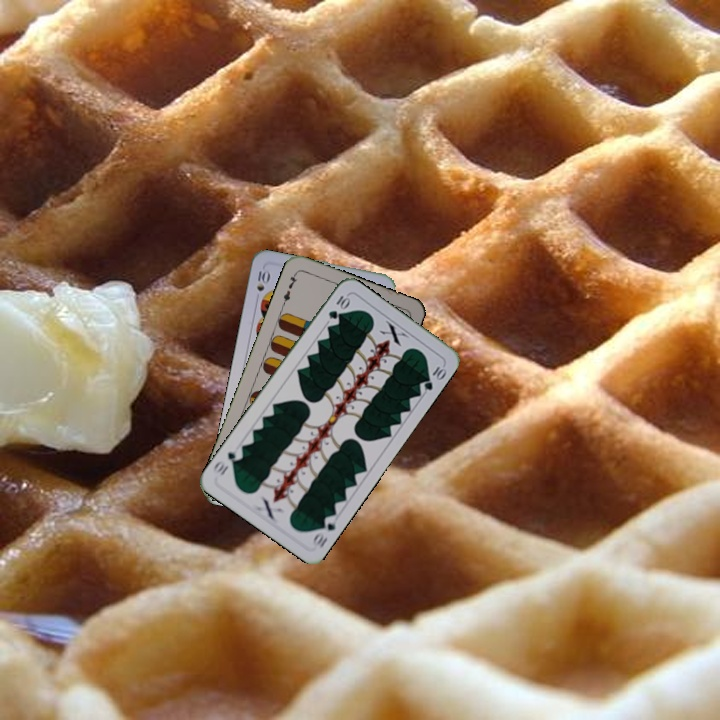E7: (278, 269, 300, 308)
G10: (308, 511, 338, 550), (324, 291, 352, 322)
S10: (252, 264, 272, 304)
